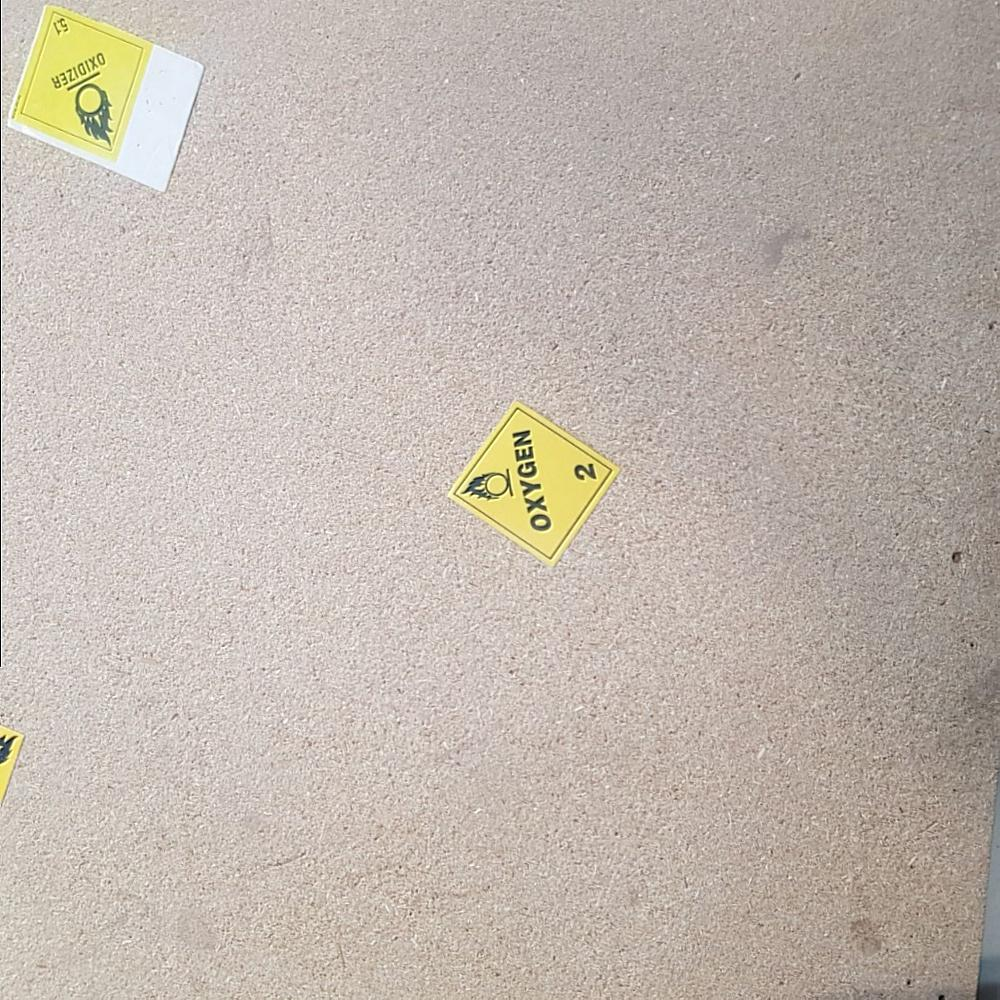oxidizer: (444, 394, 626, 570), (9, 2, 149, 166)
